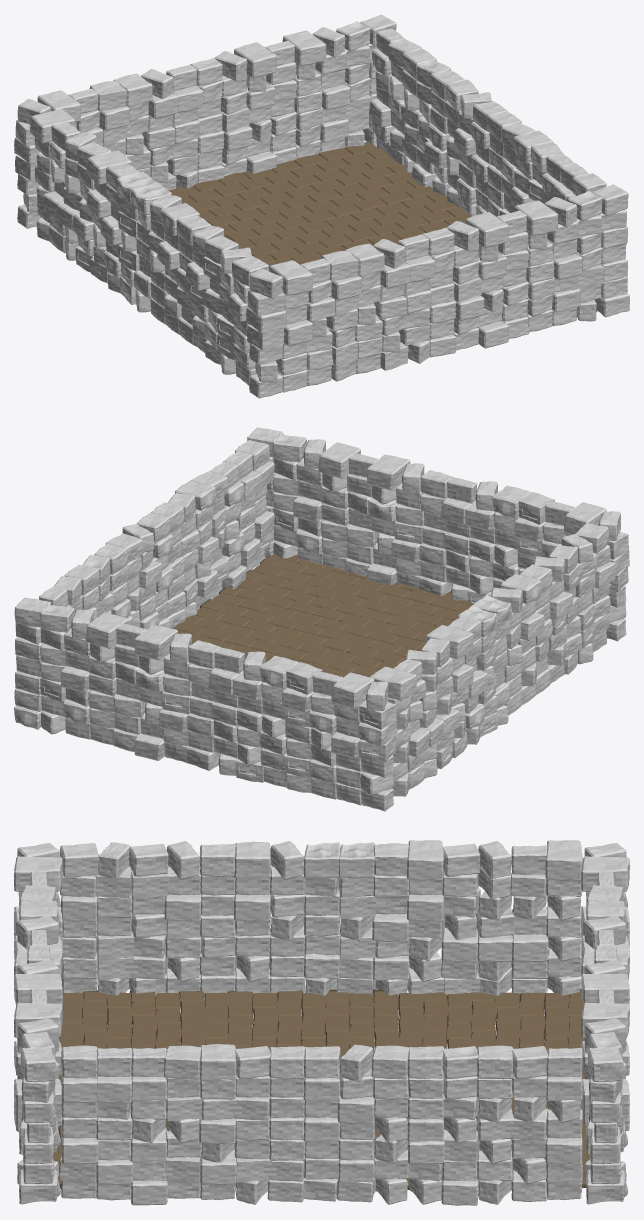
The model's file is 3DTiledRoom.fbx.
3 views of the same model, one above another, from view 1: azimuth 30°, elevation 25°; view 2: azimuth 150°, elevation 25°; view 3: azimuth 270°, elevation 25° (orthographic). The views are drawn at different scales.
Visible parts, largest first — view 1: TopWall.015, BottomWall.094, BottomWall.079, TopWall.079, TopWall.094, RightWall.126, TopWall.030, BottomWall.030, TopWall.038, RightWall.088, BottomWall.038, TopWall.007 (+53 smaller); view 2: BottomWall.079, TopWall.079, BottomWall.015, BottomWall.094, TopWall.094, RightWall.126, RightWall.088, TopWall.015, BottomWall.038, BottomWall.110, TopWall.038, TopWall.110 (+46 smaller); view 3: RightWall.126, RightWall.088, LeftWall.037, RightWall.046, BottomWall.015, TopWall.015, RightWall.063, RightWall.071, RightWall.006, BottomWall.079, TopWall.079, LeftWall.029 (+222 smaller).
Part boxes in pixels (left/top/right/bottom): TopWall.015: left=269, top=260, right=312, bottom=295; BottomWall.094: left=282, top=30, right=326, bottom=65; BottomWall.079: left=234, top=42, right=276, bottom=78; TopWall.079: left=466, top=212, right=508, bottom=248; TopWall.094: left=514, top=200, right=557, bottom=235; RightWall.126: left=30, top=109, right=75, bottom=143; TopWall.030: left=321, top=250, right=358, bottom=281; BottomWall.030: left=89, top=80, right=126, bottom=111; TopWall.038: left=345, top=243, right=384, bottom=276; RightWall.088: left=86, top=150, right=131, bottom=184; BottomWall.038: left=113, top=73, right=152, bottom=106; TopWall.007: left=249, top=268, right=283, bottom=299; BottomWall.079: left=134, top=624, right=177, bottom=660; TopWall.079: left=366, top=454, right=410, bottom=489; BottomWall.015: left=331, top=672, right=374, bottom=708; BottomWall.094: left=85, top=612, right=128, bottom=648; TopWall.094: left=318, top=442, right=360, bottom=478; RightWall.126: left=370, top=666, right=416, bottom=700; RightWall.088: left=426, top=625, right=473, bottom=659; TopWall.015: left=564, top=502, right=606, bottom=534; BottomWall.038: left=259, top=655, right=298, bottom=689; BottomWall.110: left=40, top=604, right=74, bottom=632; TopWall.038: left=492, top=485, right=530, bottom=518; TopWall.110: left=272, top=434, right=306, bottom=462; RightWall.126: left=545, top=840, right=582, bottom=880; RightWall.088: left=407, top=840, right=443, bottom=880; LeftWall.037: left=199, top=1044, right=236, bottom=1080; RightWall.046: left=234, top=841, right=271, bottom=878; BottomWall.015: left=581, top=856, right=629, bottom=891; TopWall.015: left=14, top=856, right=62, bottom=891; RightWall.063: left=303, top=842, right=340, bottom=878; RightWall.071: left=338, top=842, right=374, bottom=878; RightWall.006: left=59, top=843, right=98, bottom=877; BottomWall.079: left=581, top=973, right=629, bottom=1004; TopWall.079: left=14, top=973, right=62, bottom=1004; LeftWall.029: left=164, top=1045, right=201, bottom=1079.
Size of the model in its own units: 3565 by 1087 by 4159.
